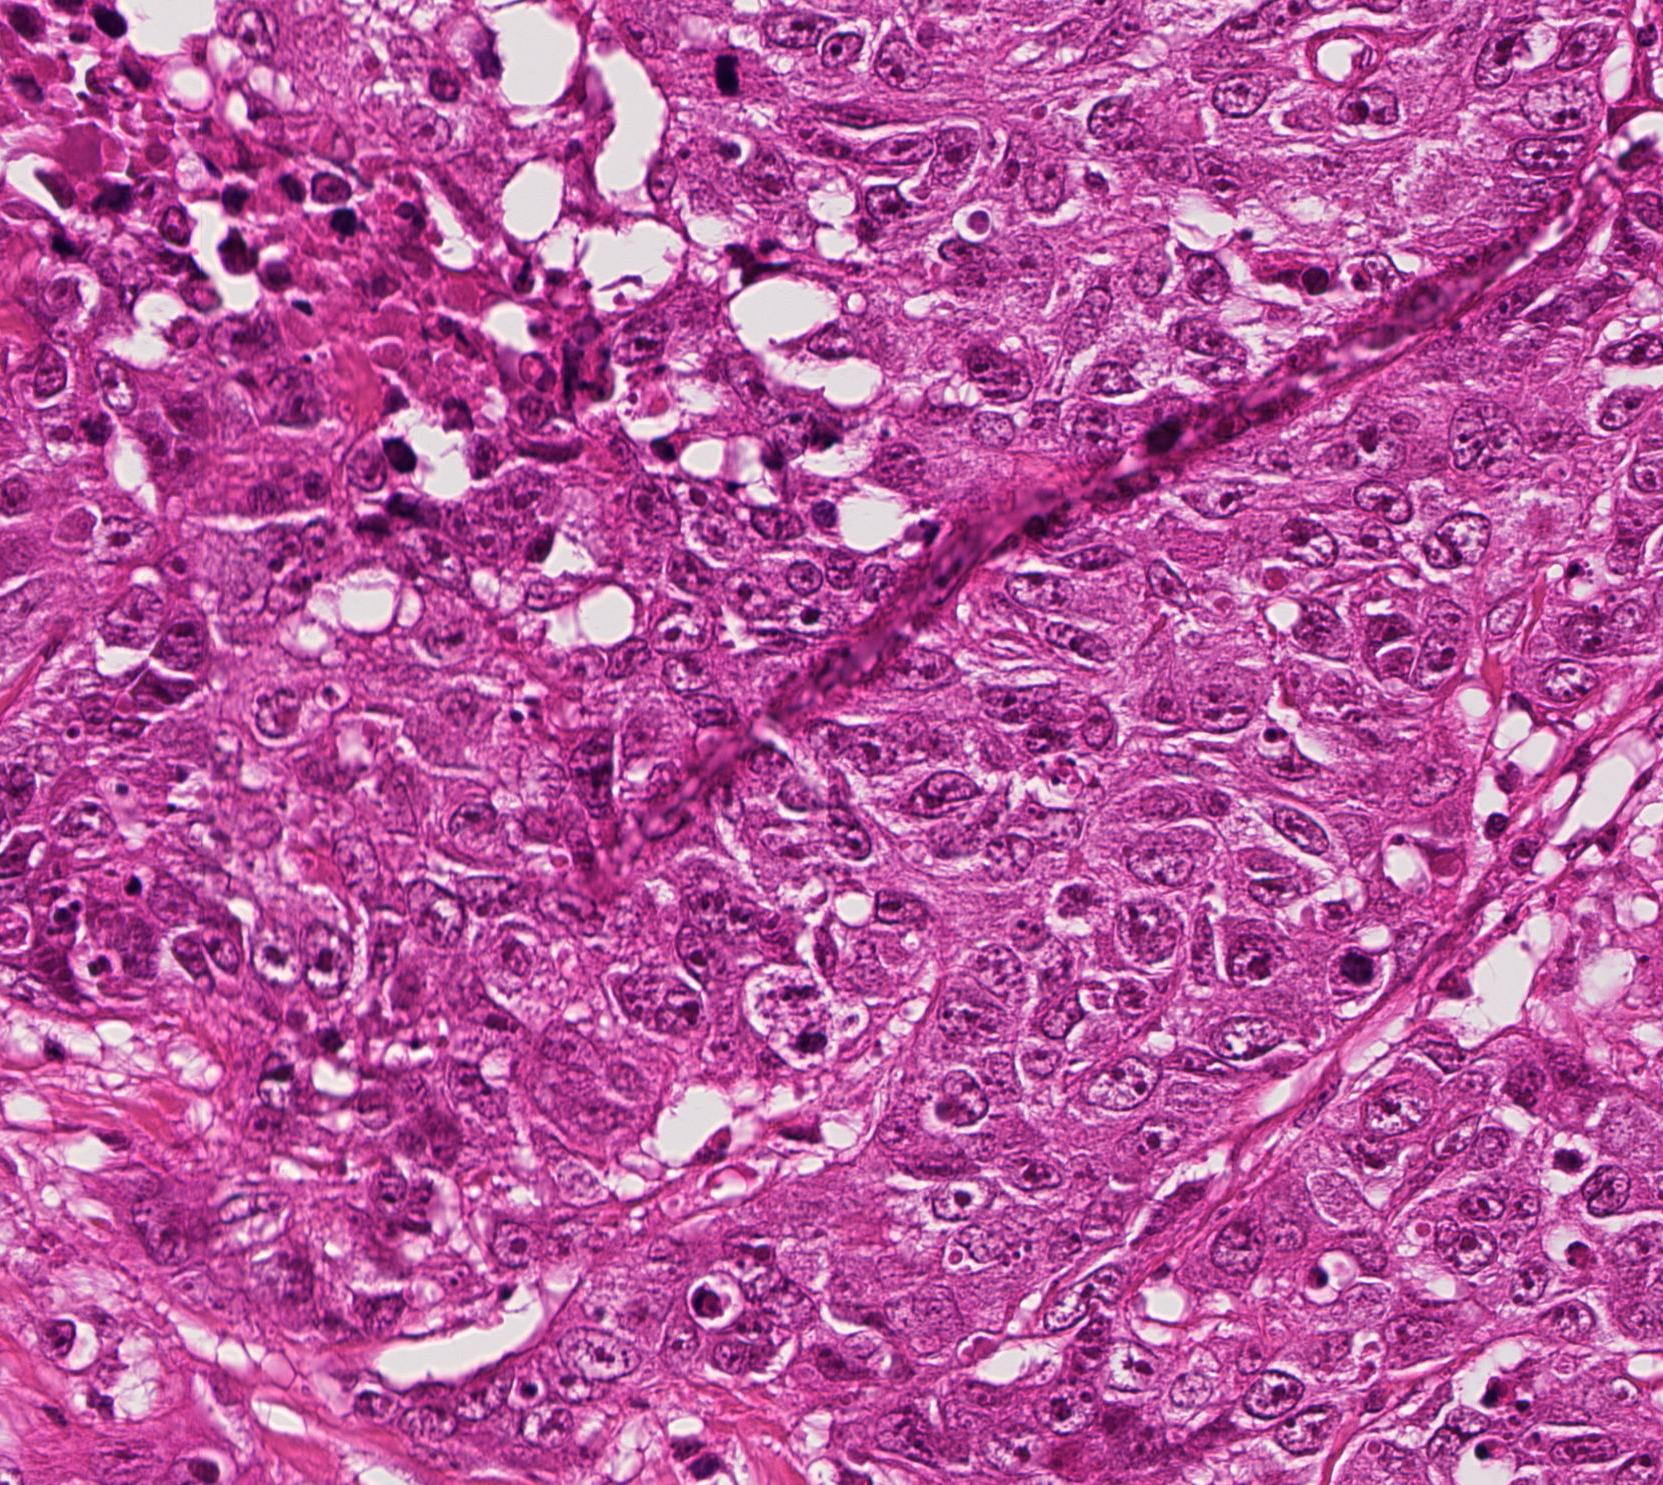mitosis: (1325, 942, 1385, 1002), (700, 26, 758, 86)
